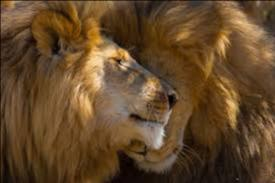Non_Gorille: (32, 0, 249, 183)
